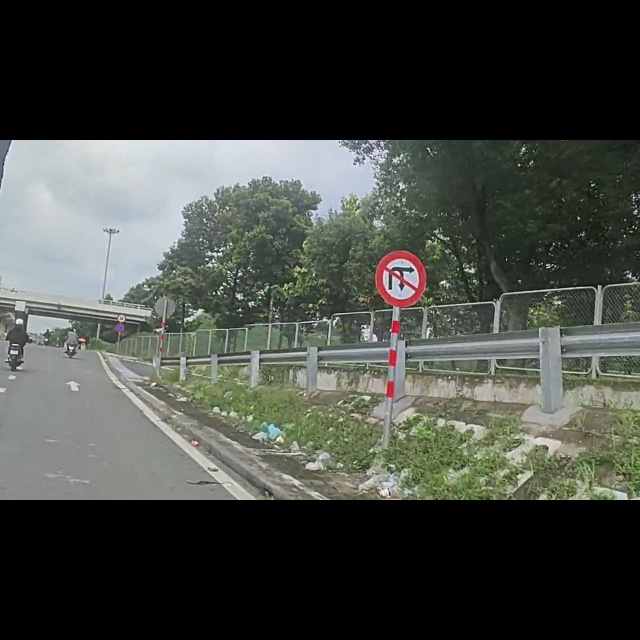bien_cam: (375, 194, 427, 299), (115, 325, 125, 341), (117, 308, 126, 325)
